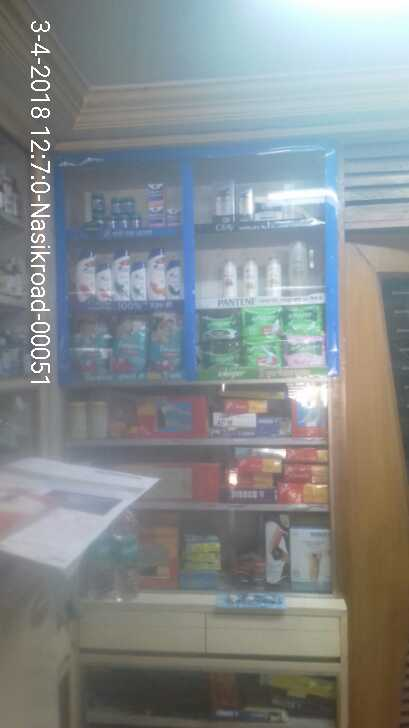vicks: (82, 175, 181, 231)
